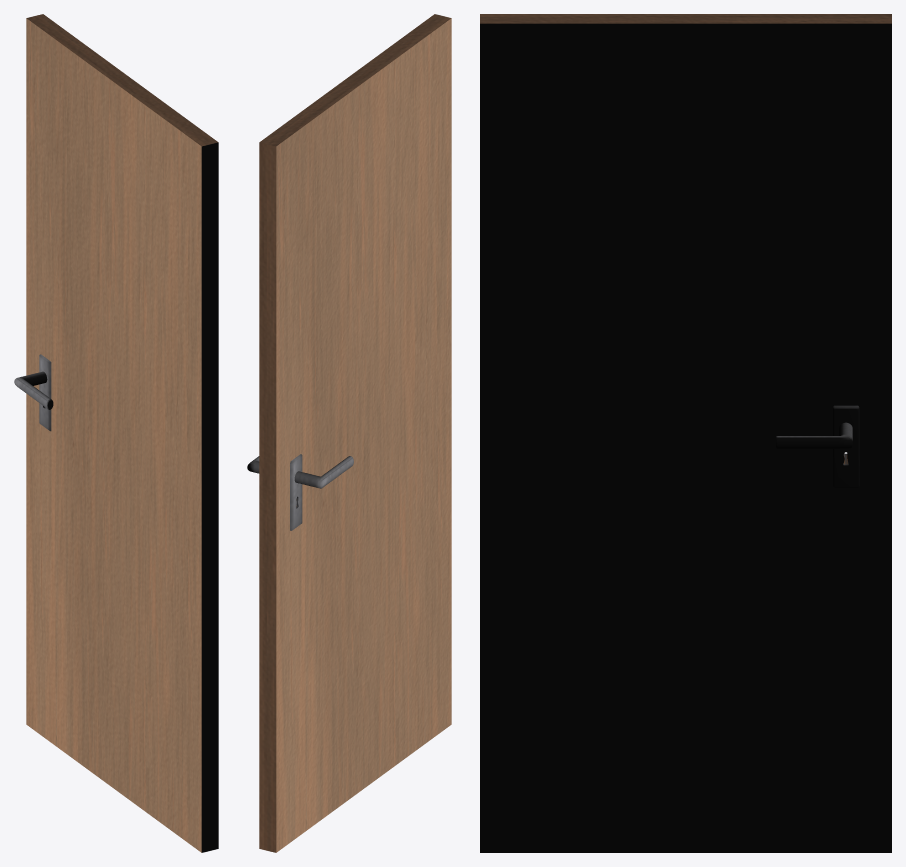
File: Tür.fbx
The picture shows the model from 3 angles, left to right: view 1: azimuth 30°, elevation 25°; view 2: azimuth 150°, elevation 25°; view 3: azimuth 270°, elevation 25°; orthographic projection. The views are drawn at different scales.
Visible parts, largest first — view 1: Tür_1, Hänkel, Schloss; view 2: Tür_1, Hänkel, Schloss; view 3: Tür_1, Schloss, Hänkel.
Part boxes in pixels (box(x1,y1,x2,y2)): Tür_1: box(26, 14, 218, 852); Hänkel: box(14, 371, 53, 409); Schloss: box(39, 354, 51, 431); Tür_1: box(259, 14, 451, 852); Hänkel: box(247, 456, 353, 488); Schloss: box(290, 454, 302, 530); Tür_1: box(480, 14, 891, 852); Schloss: box(833, 405, 859, 487); Hänkel: box(776, 422, 852, 448).
Bounding box in the file's own units: 22 × 200 × 90.
